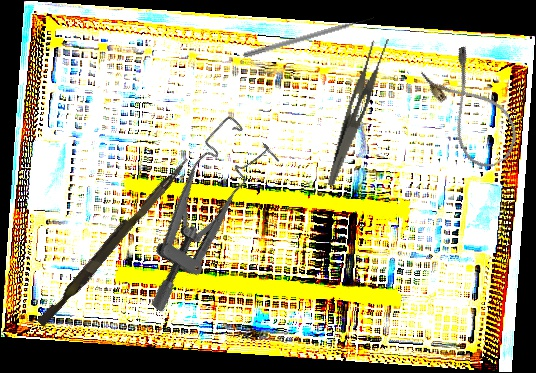Cannula: (418, 43, 527, 176)
Dressing Forceps: (326, 33, 392, 191)
Pusher: (36, 151, 191, 331), (242, 15, 376, 60)
Speculum: (99, 112, 294, 315)
